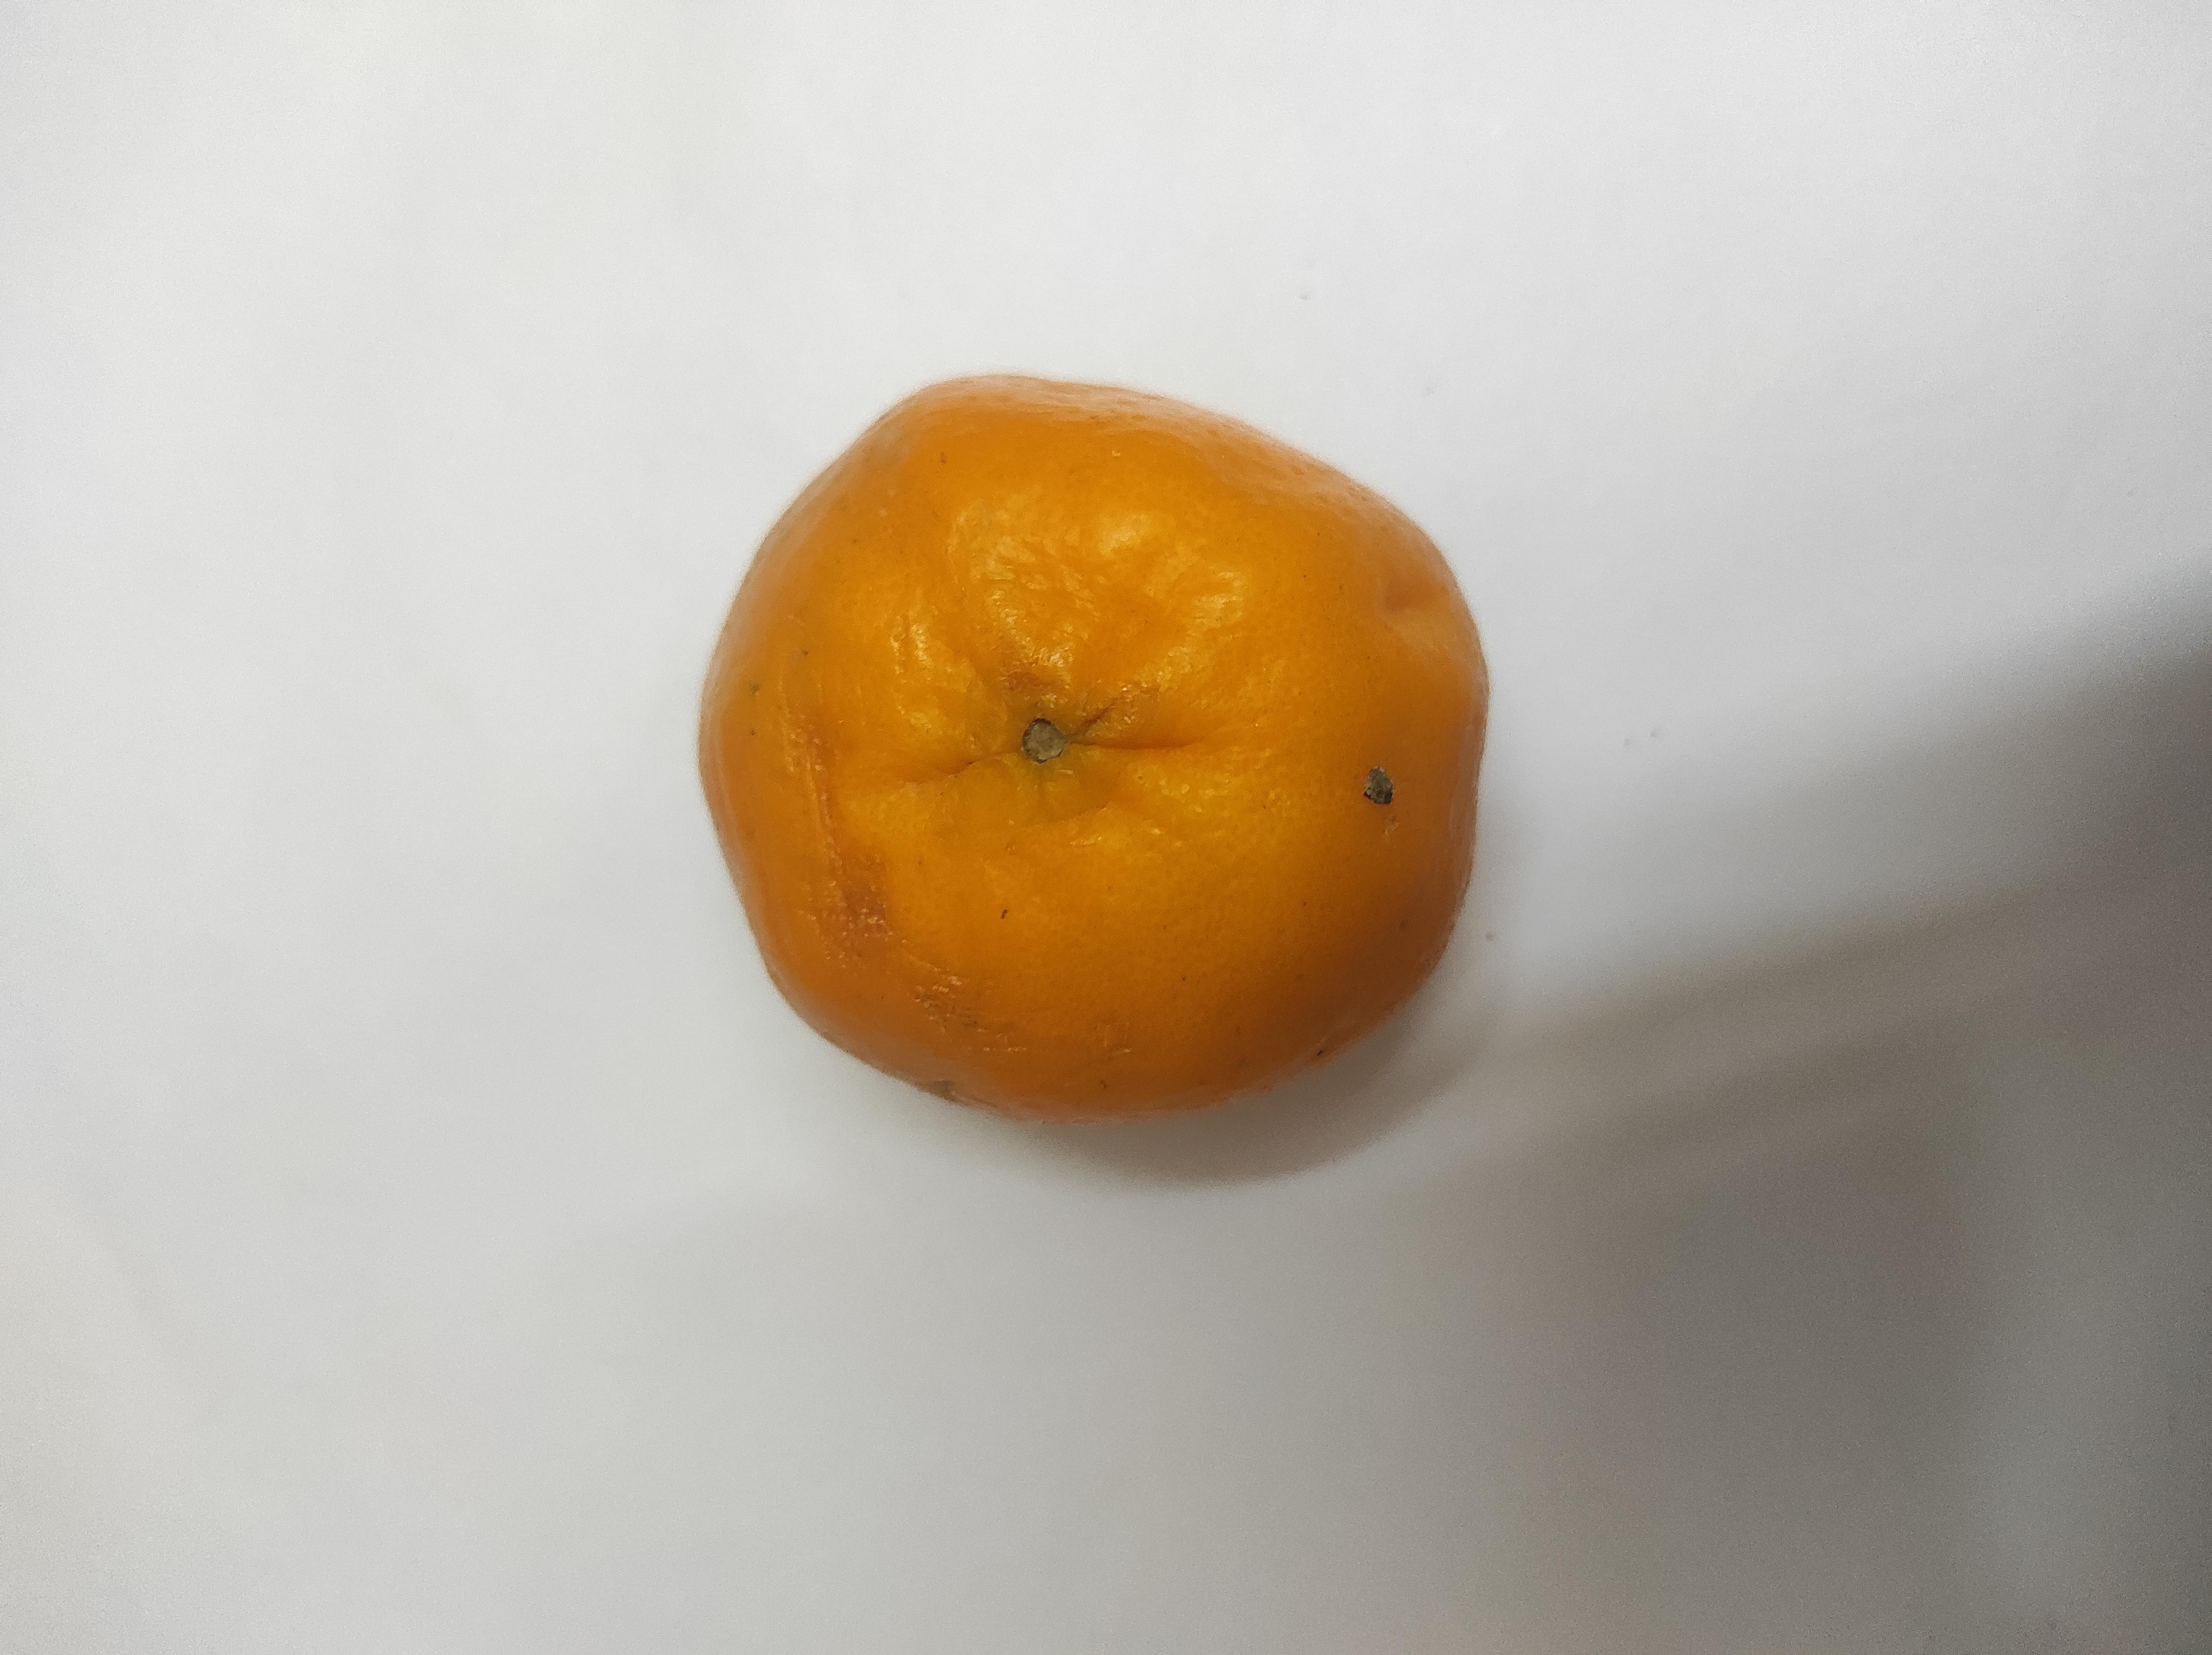Unripe: (708, 518, 1701, 1120)
